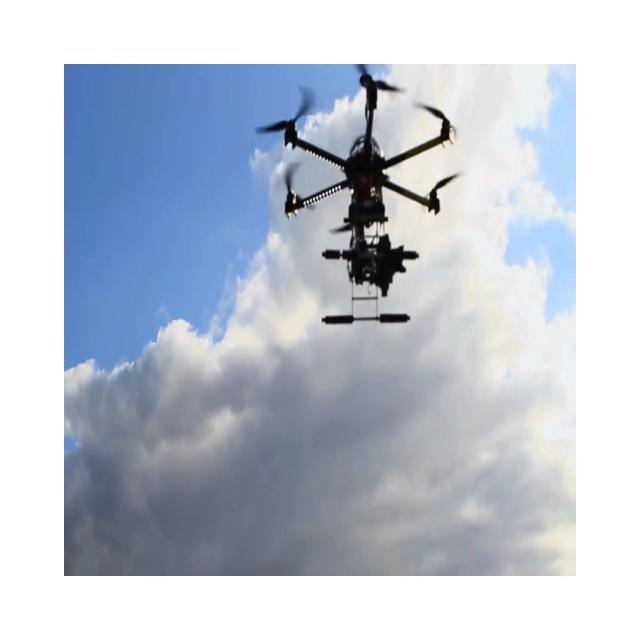drone: (255, 63, 463, 325)
